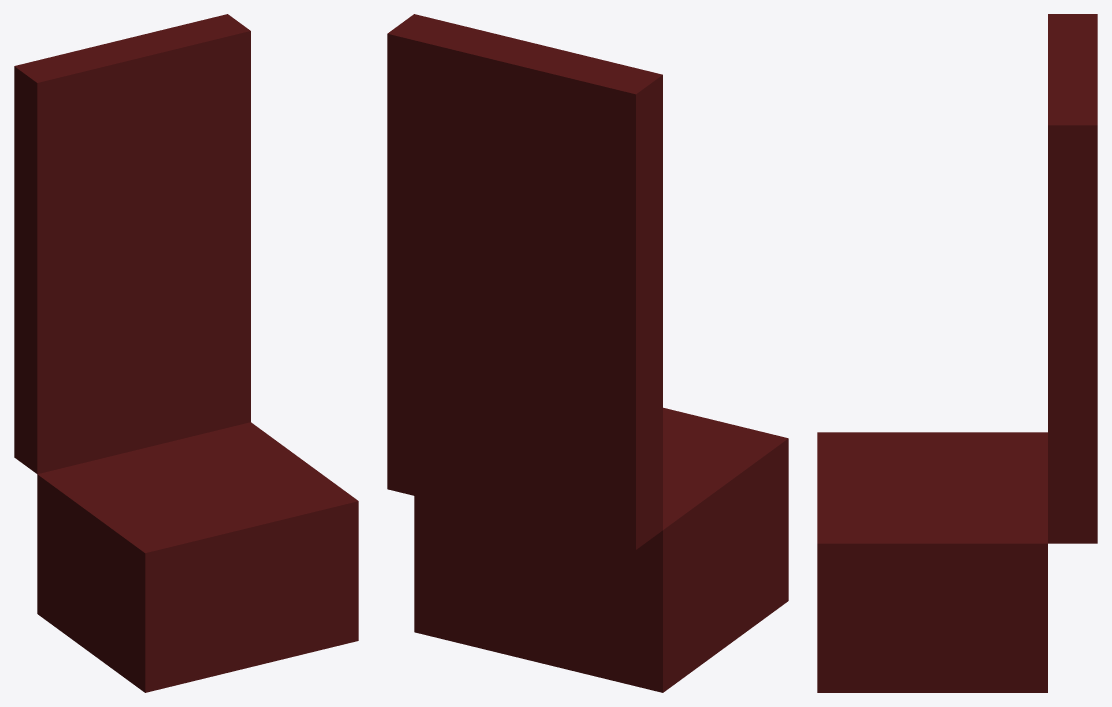
Rendered from ato2_trono_vermelho.glb.
3 renders of one model, left to right at view 1: azimuth 30°, elevation 25°; view 2: azimuth 150°, elevation 25°; view 3: azimuth 270°, elevation 25°, orthographic. The views are drawn at different scales.
Parts seen in each view (by area): view 1: Malha_0; view 2: Malha_0; view 3: Malha_0.
Part boxes in pixels (box(x1,y1,x2,y2)): Malha_0: box(14, 14, 358, 692); Malha_0: box(387, 14, 788, 692); Malha_0: box(817, 14, 1097, 692).
Size of the model in its own units: 0.8 by 1.9 by 0.85.
